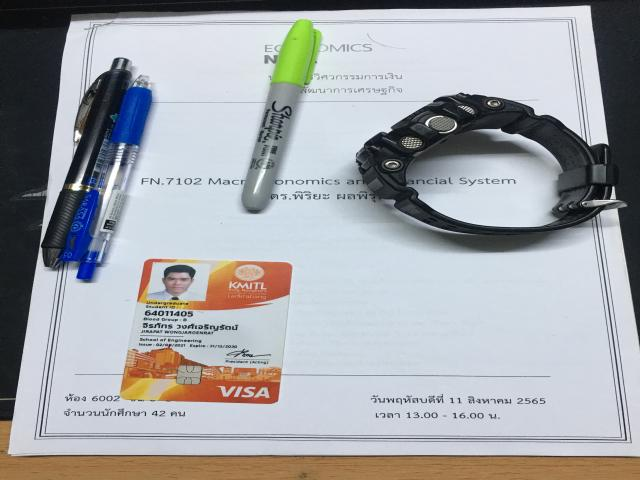Pen: (42, 58, 152, 280), (242, 19, 322, 211)
Watch: (357, 94, 625, 234)
paper: (10, 7, 638, 456)
